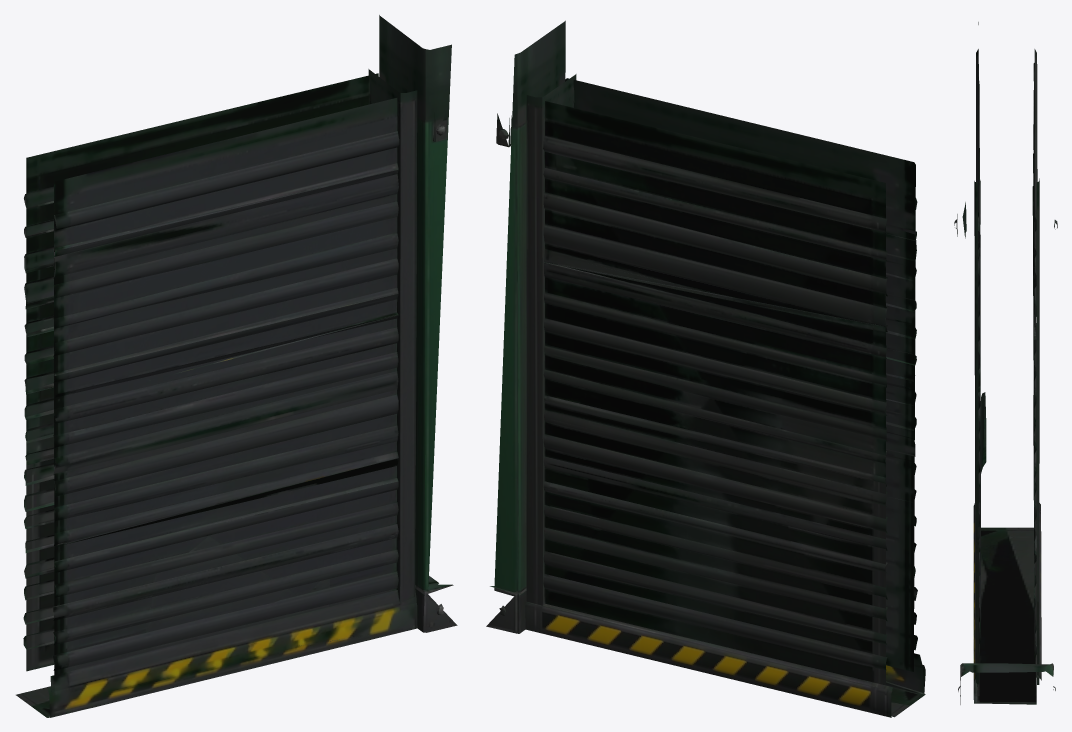
The model's file is automatic-loading-door-leaf.glb.
3 views of the same model, side by side, from view 1: azimuth 30°, elevation 25°; view 2: azimuth 150°, elevation 25°; view 3: azimuth 270°, elevation 25° (orthographic). The views are drawn at different scales.
Visible parts, largest first — view 1: geometry_0; view 2: geometry_0; view 3: geometry_0.
Part boxes in pixels (box(x1,y1,x2,y2)): geometry_0: box(16, 15, 457, 717); geometry_0: box(486, 20, 925, 717); geometry_0: box(954, 22, 1057, 704).
Bounding box in the file's own units: 0.6426 × 0.8906 × 0.1479.
Materials: 1 (1 with a texture image).
